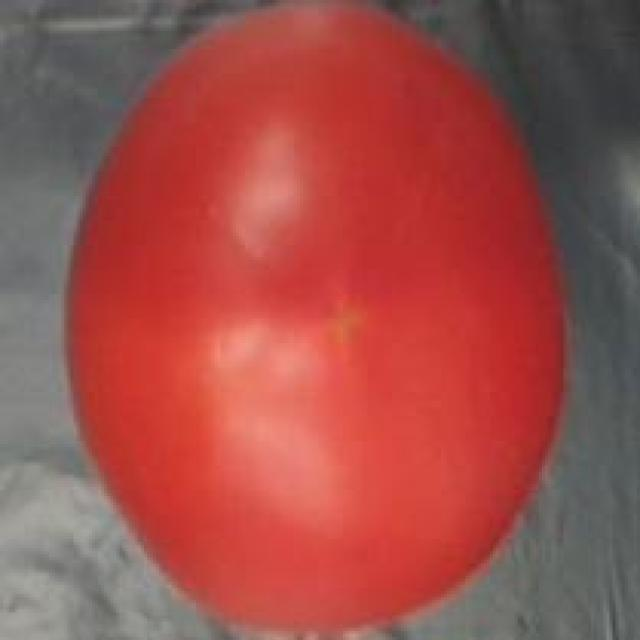ripe tomato: (61, 0, 582, 640)
